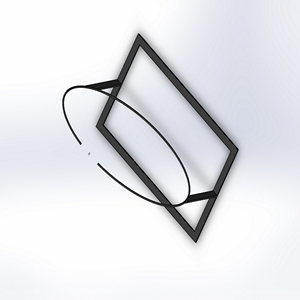circle: (61, 32, 240, 245)
